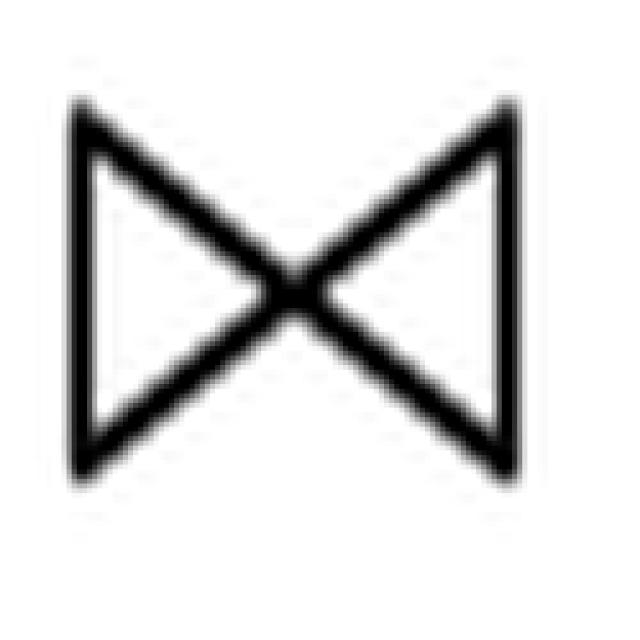Gate valve: (69, 86, 519, 492)
